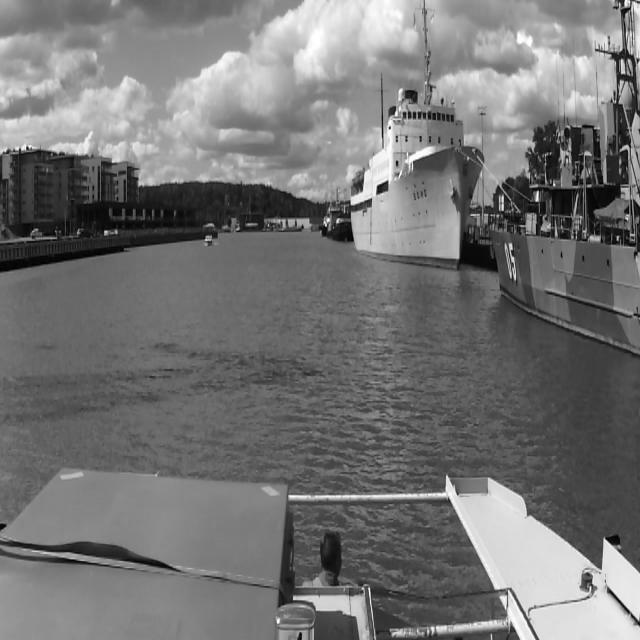ship: (494, 14, 636, 354), (350, 87, 484, 269), (321, 188, 345, 235), (332, 215, 352, 242), (205, 235, 212, 245)
